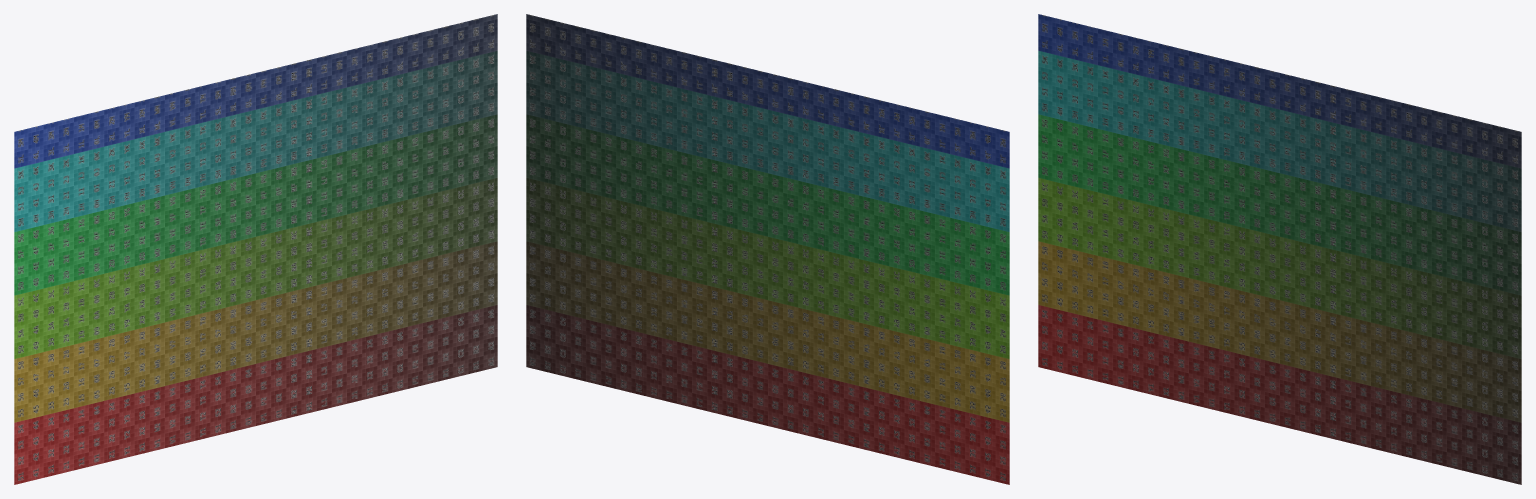
File: flag.fbx
3 renders of one model, left to right at view 1: azimuth 30°, elevation 25°; view 2: azimuth 150°, elevation 25°; view 3: azimuth 330°, elevation 25°, orthographic.
Visible parts, largest first — view 1: flag; view 2: flag; view 3: flag.
Part boxes in pixels (<box>): flag: <box>14,14,497,484</box>; flag: <box>526,14,1009,484</box>; flag: <box>1038,14,1521,484</box>.
Size of the model in its own units: 320 by 223 by 0.
